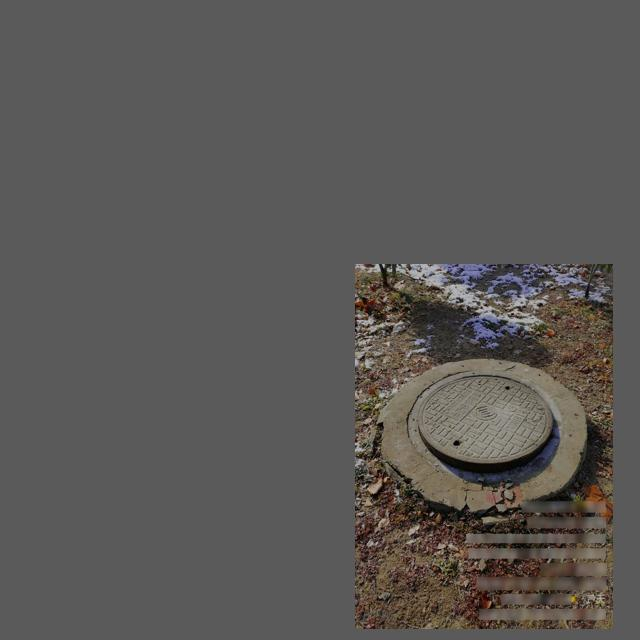uncovered: (406, 369, 564, 483)
